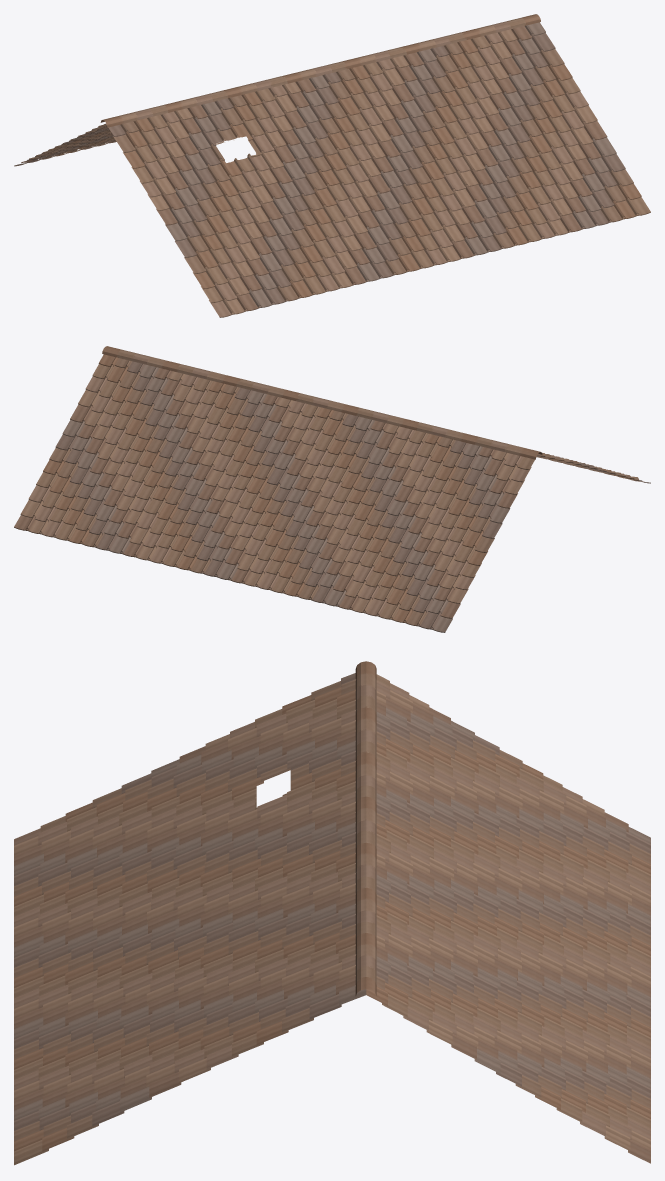
The model's file is BW_Blacksmith01_ClayRoof.fbx.
3 views of the same model, one above another, from view 1: azimuth 30°, elevation 25°; view 2: azimuth 150°, elevation 25°; view 3: azimuth 270°, elevation 25° (orthographic). The views are drawn at different scales.
Parts seen in each view (by area): view 1: BW_Blacksmith01_ClayRoof; view 2: BW_Blacksmith01_ClayRoof; view 3: BW_Blacksmith01_ClayRoof.
Part boxes in pixels (left/top/right/bottom): BW_Blacksmith01_ClayRoof: left=14, top=14, right=650, bottom=317; BW_Blacksmith01_ClayRoof: left=14, top=346, right=650, bottom=632; BW_Blacksmith01_ClayRoof: left=14, top=661, right=650, bottom=1165.
Bounding box in the file's own units: 10.36 × 2.63 × 8.5.
